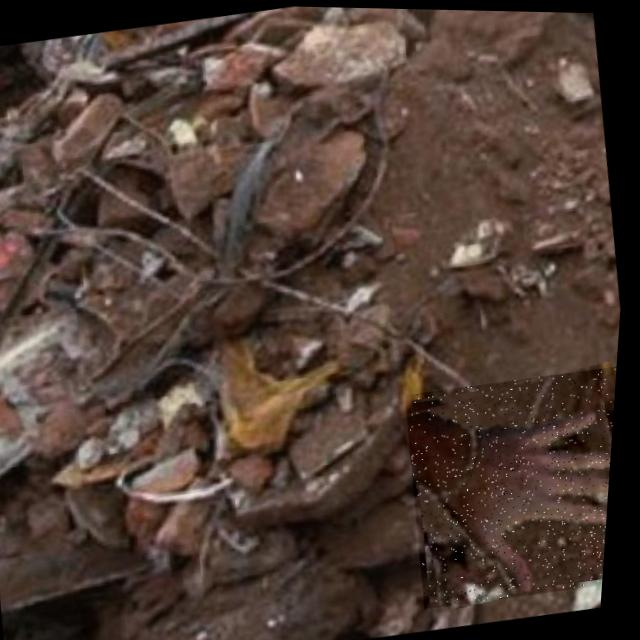Person in Rubble: (399, 359, 622, 610)
